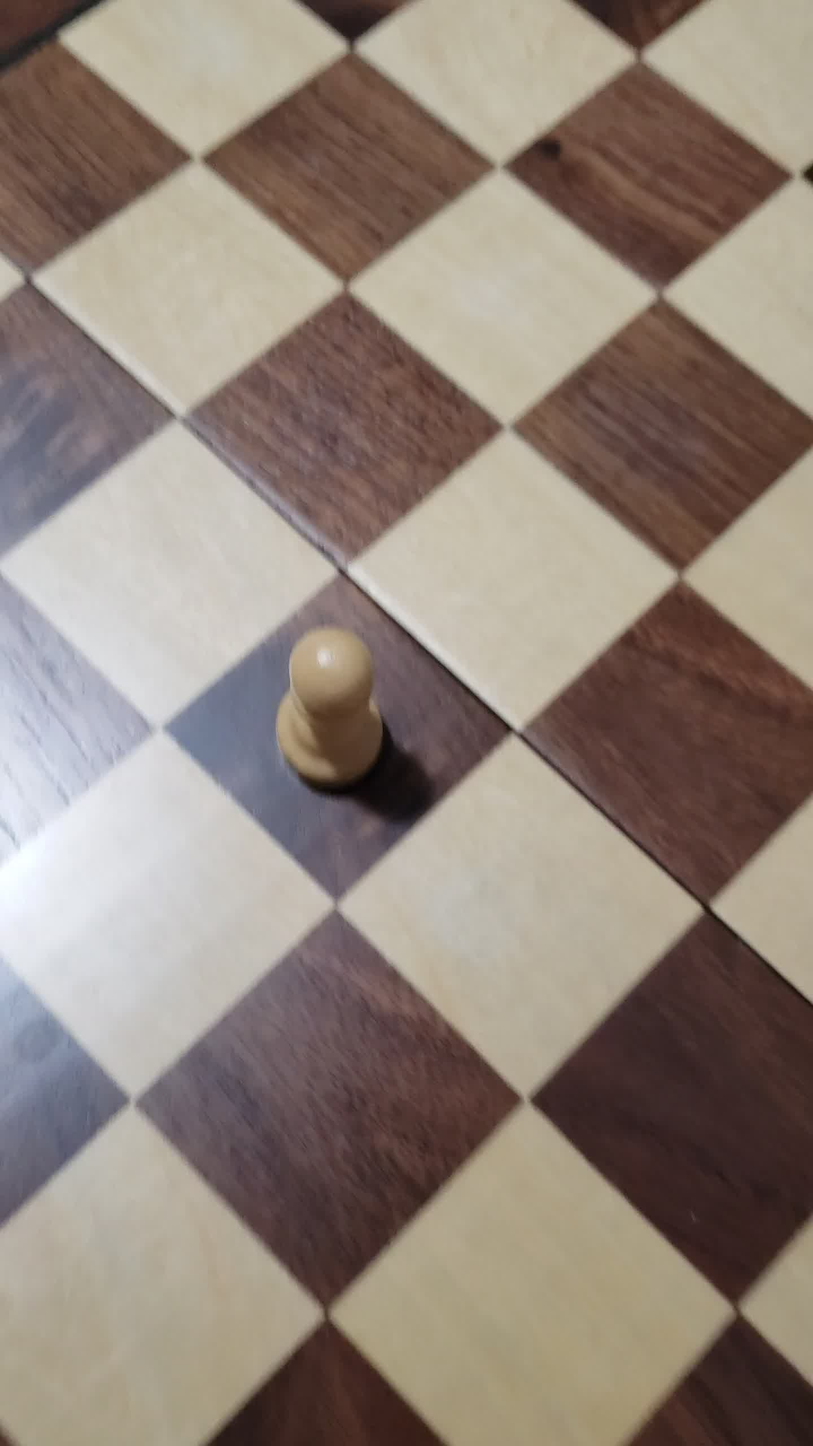white-pawn: (231, 605, 426, 827)
